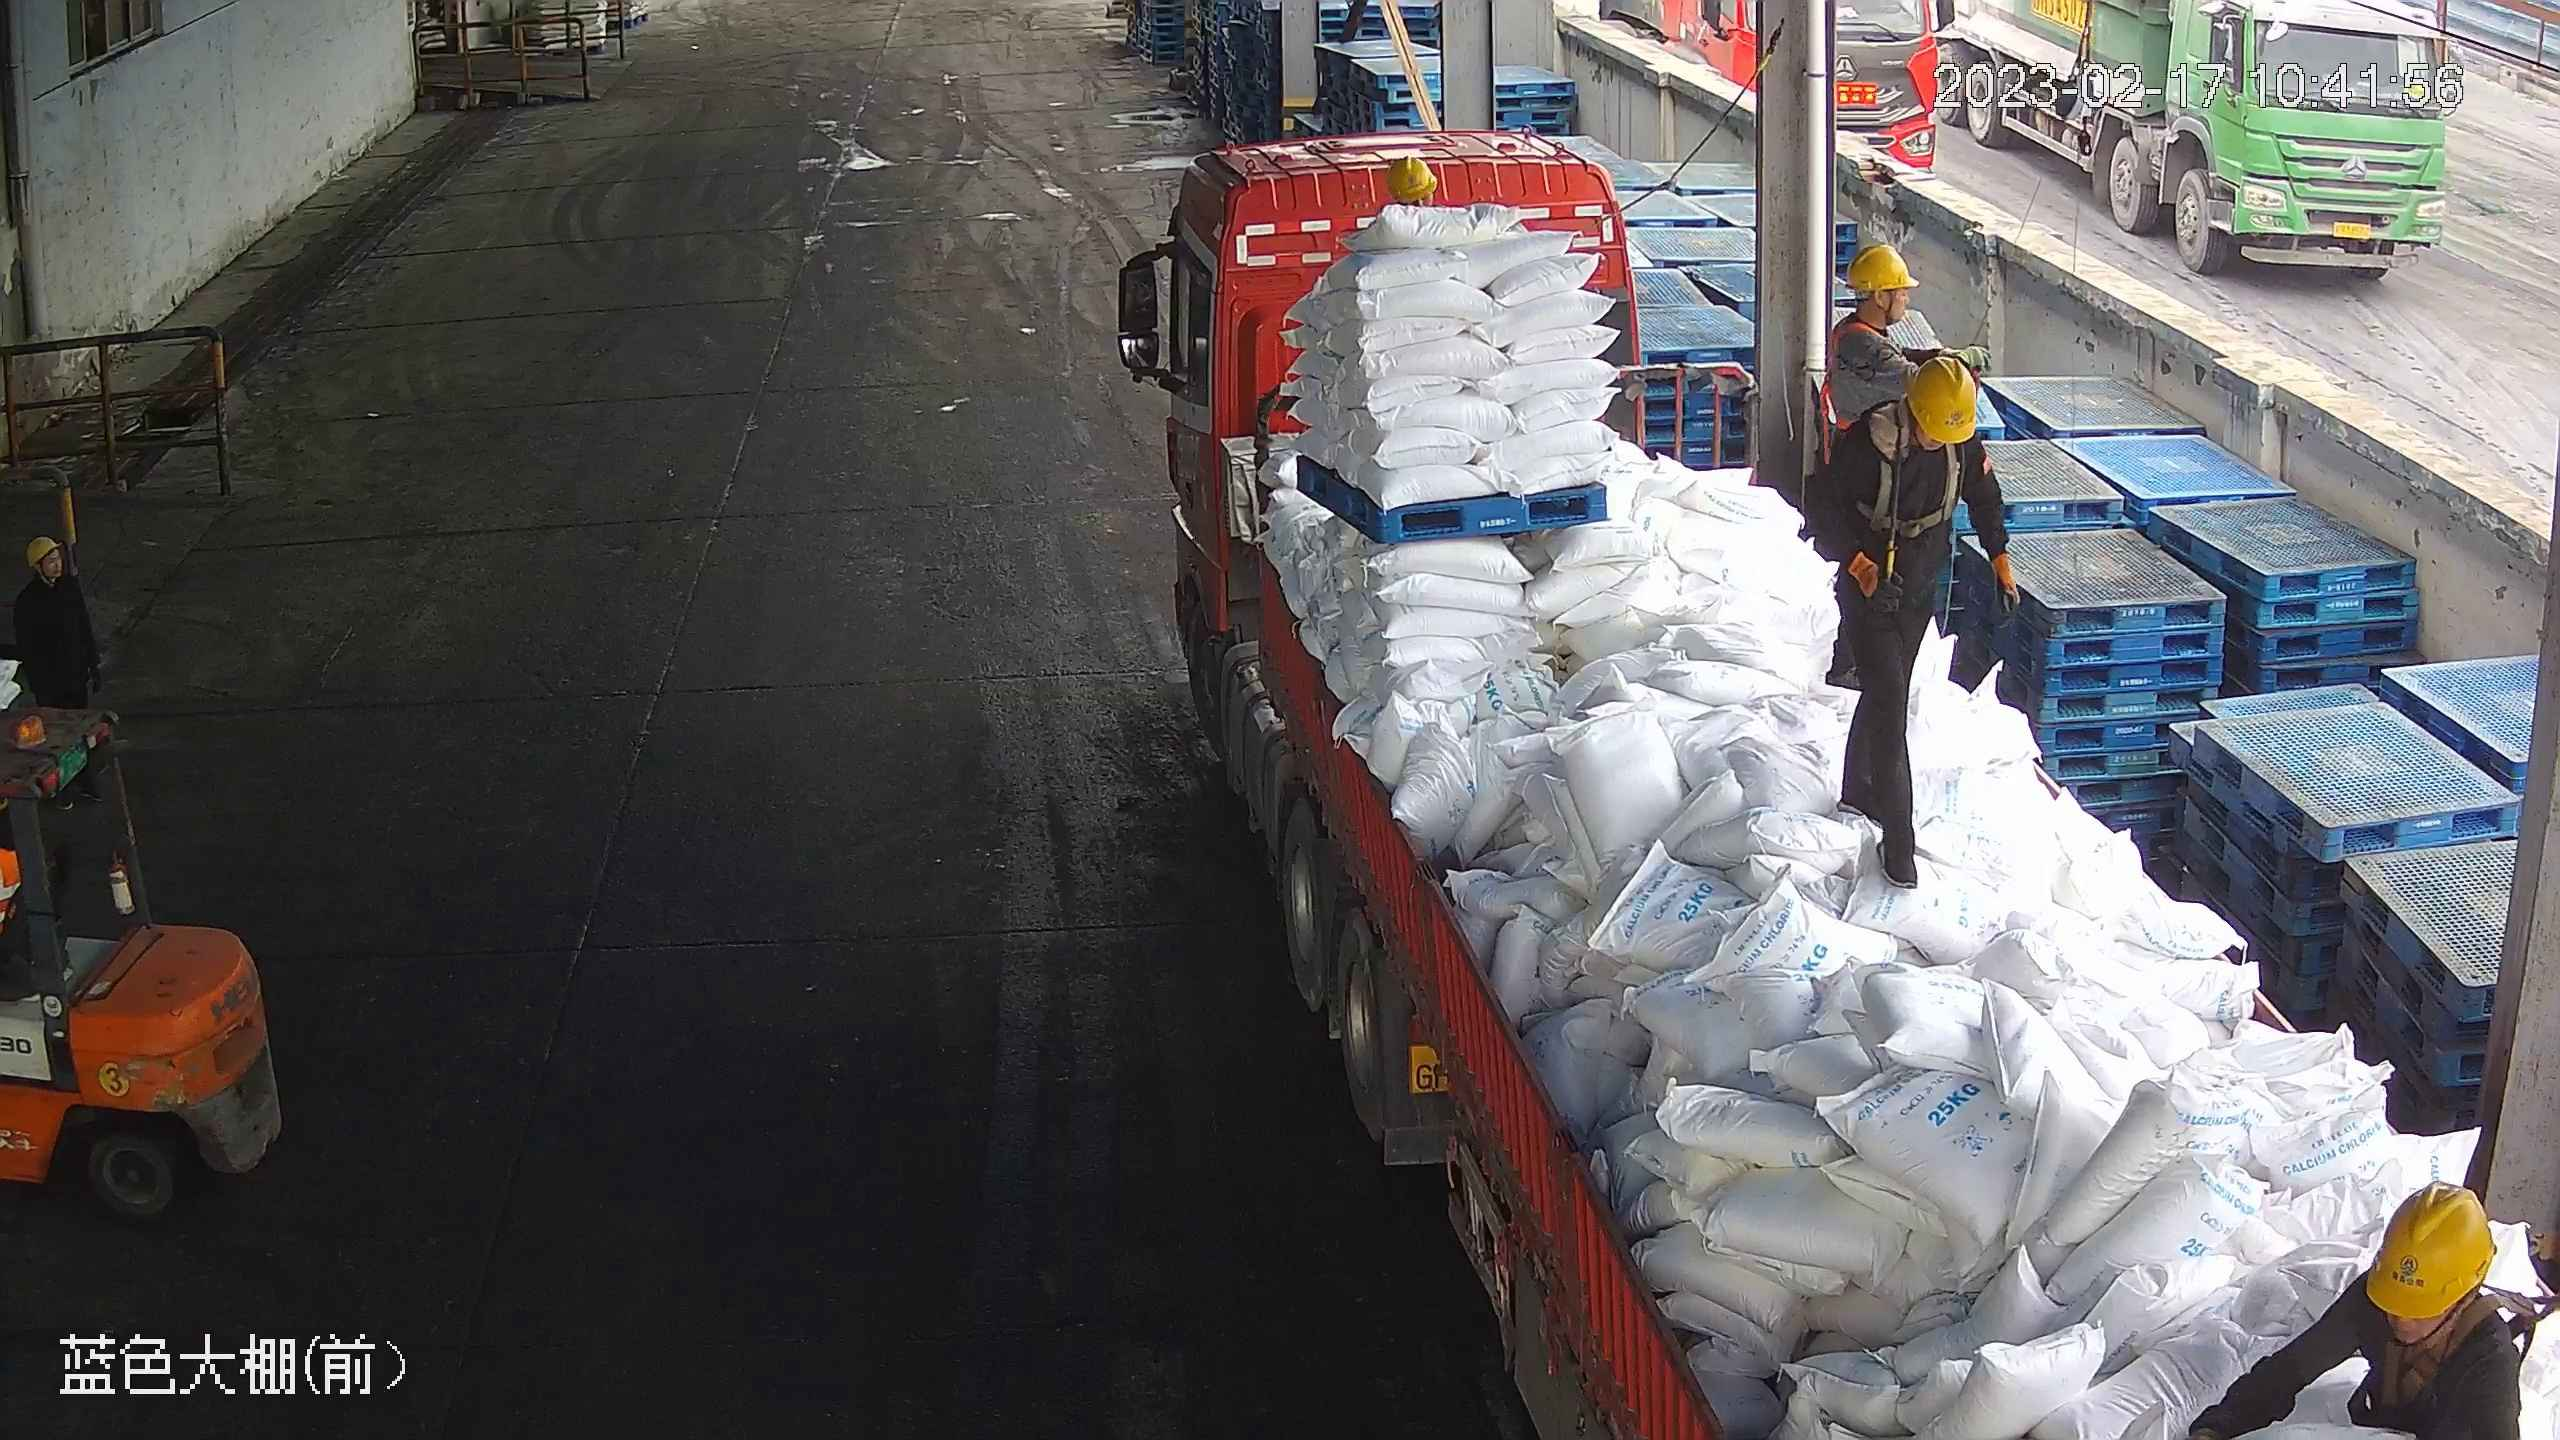belt: (2364, 1281, 2549, 1425), (1861, 408, 1969, 537), (1819, 316, 1912, 397)
head: (2304, 1182, 2539, 1419), (1831, 355, 1991, 486), (1819, 239, 1937, 370), (12, 534, 87, 613)
helmet: (2365, 1180, 2497, 1318), (1906, 351, 1984, 442), (1841, 239, 1915, 291), (1384, 156, 1437, 201), (23, 535, 62, 567)
people: (1810, 349, 2013, 896), (6, 533, 96, 720)
truck: (1127, 150, 2554, 1436)
